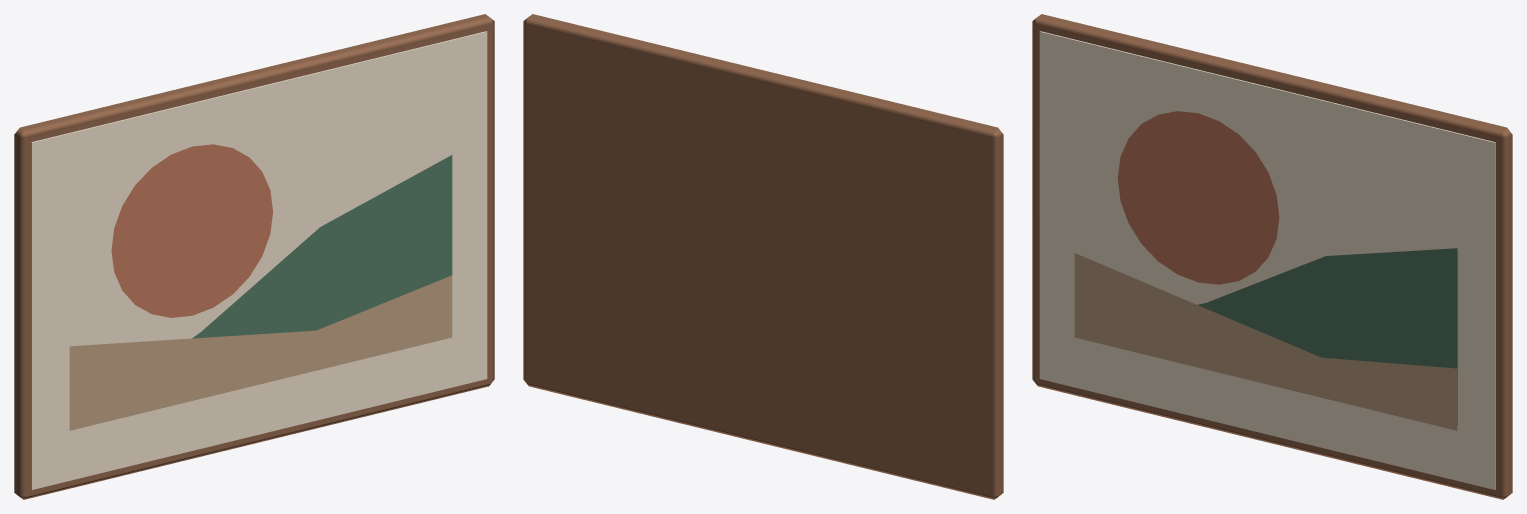
File: kit_wall_art_v1.glb
The picture shows the model from 3 angles, left to right: view 1: azimuth 30°, elevation 25°; view 2: azimuth 150°, elevation 25°; view 3: azimuth 330°, elevation 25°; orthographic projection.
Parts seen in each view (by area): view 1: body; view 2: body; view 3: body.
Part boxes in pixels (x1,y1,x2,y2): body: [14, 14, 494, 499]; body: [523, 14, 1003, 499]; body: [1032, 14, 1512, 499].
Size of the model in its own units: 1.12 by 0.83 by 0.045.
